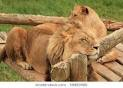lion: (15, 20, 103, 71), (66, 4, 114, 41)
